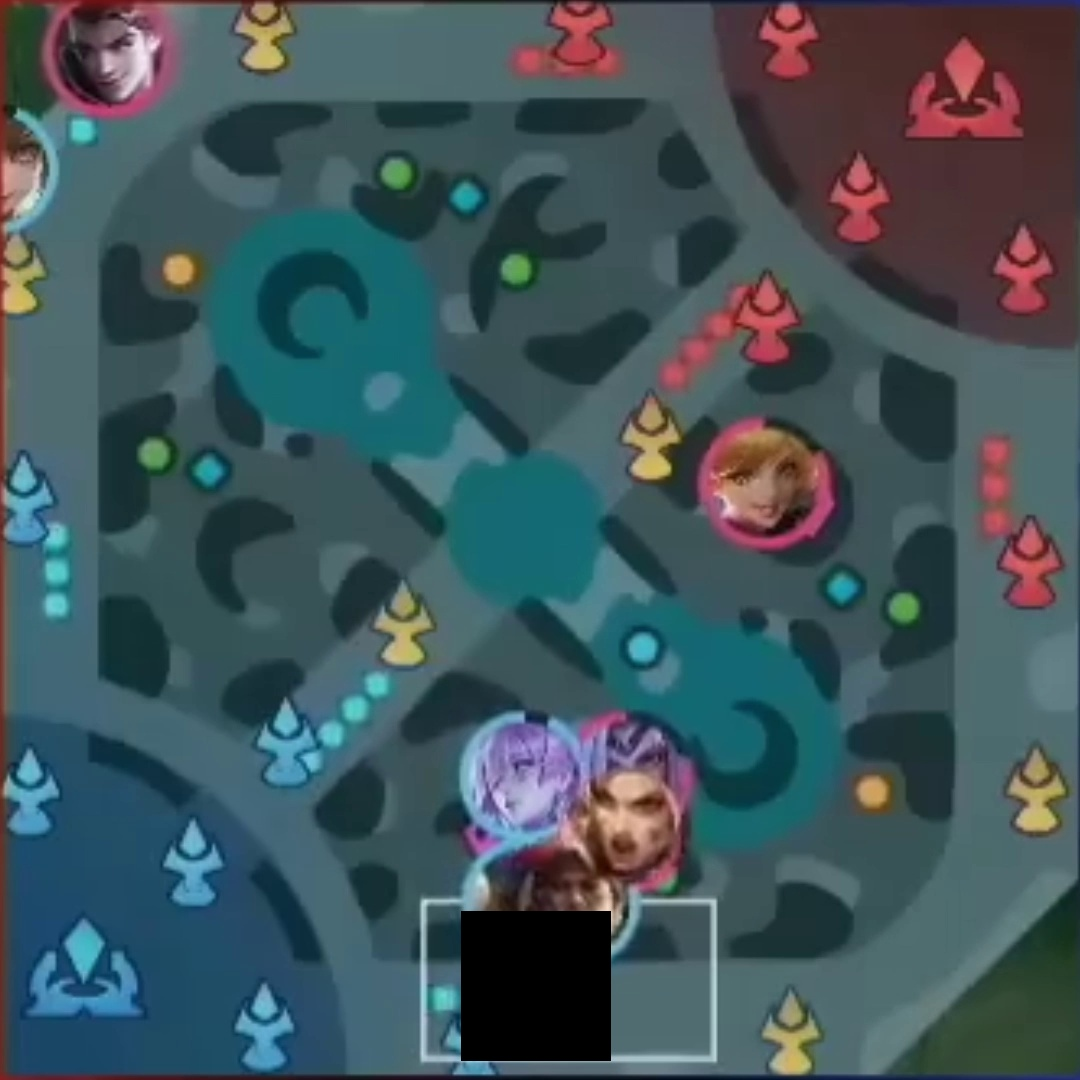Claude: (64, 2, 158, 106)
Fanny: (715, 430, 816, 538)
Lapu-Lapu: (529, 860, 626, 956)
Masha: (591, 786, 672, 877)
Novaria: (471, 723, 576, 832)
Wanwan: (1, 114, 44, 215)
